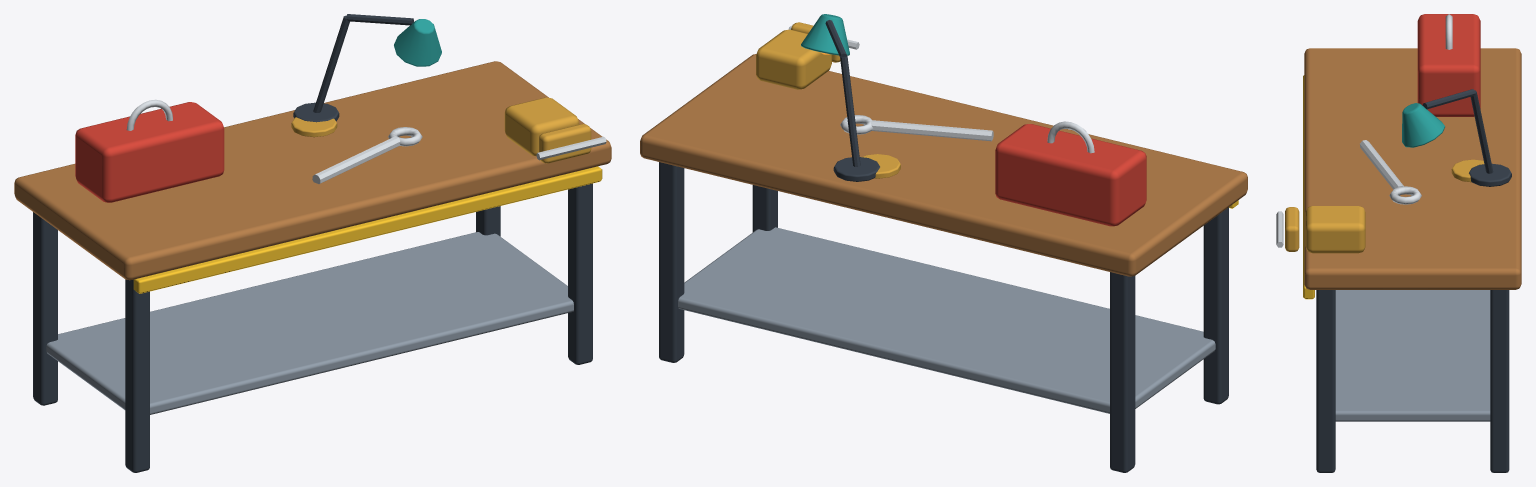
Rendered from workbench.glb.
3 renders of one model, left to right at view 1: azimuth 30°, elevation 25°; view 2: azimuth 150°, elevation 25°; view 3: azimuth 270°, elevation 25°, orthographic. The views are drawn at different scales.
Visible parts, largest first — view 1: workbench_body; view 2: workbench_body; view 3: workbench_body.
Boxes of the visible parts, x1=… form: workbench_body: x1=14, y1=14, x2=611, y2=472; workbench_body: x1=640, y1=14, x2=1247, y2=472; workbench_body: x1=1276, y1=14, x2=1521, y2=472.
Size of the model in its own units: 2.2 by 1.44 by 1.01.
